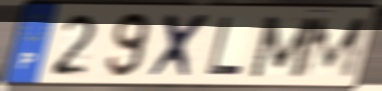2: (50, 13, 98, 79)
9: (105, 10, 153, 82)
L: (203, 15, 245, 79)
M: (296, 14, 370, 80), (247, 14, 321, 79)
X: (145, 12, 215, 81)
